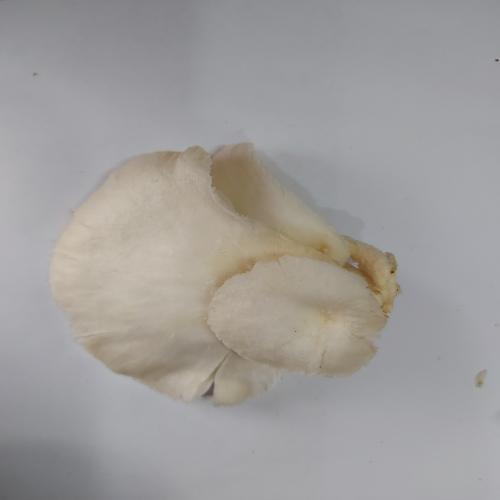Oyster Mushroom: (48, 141, 401, 407)
